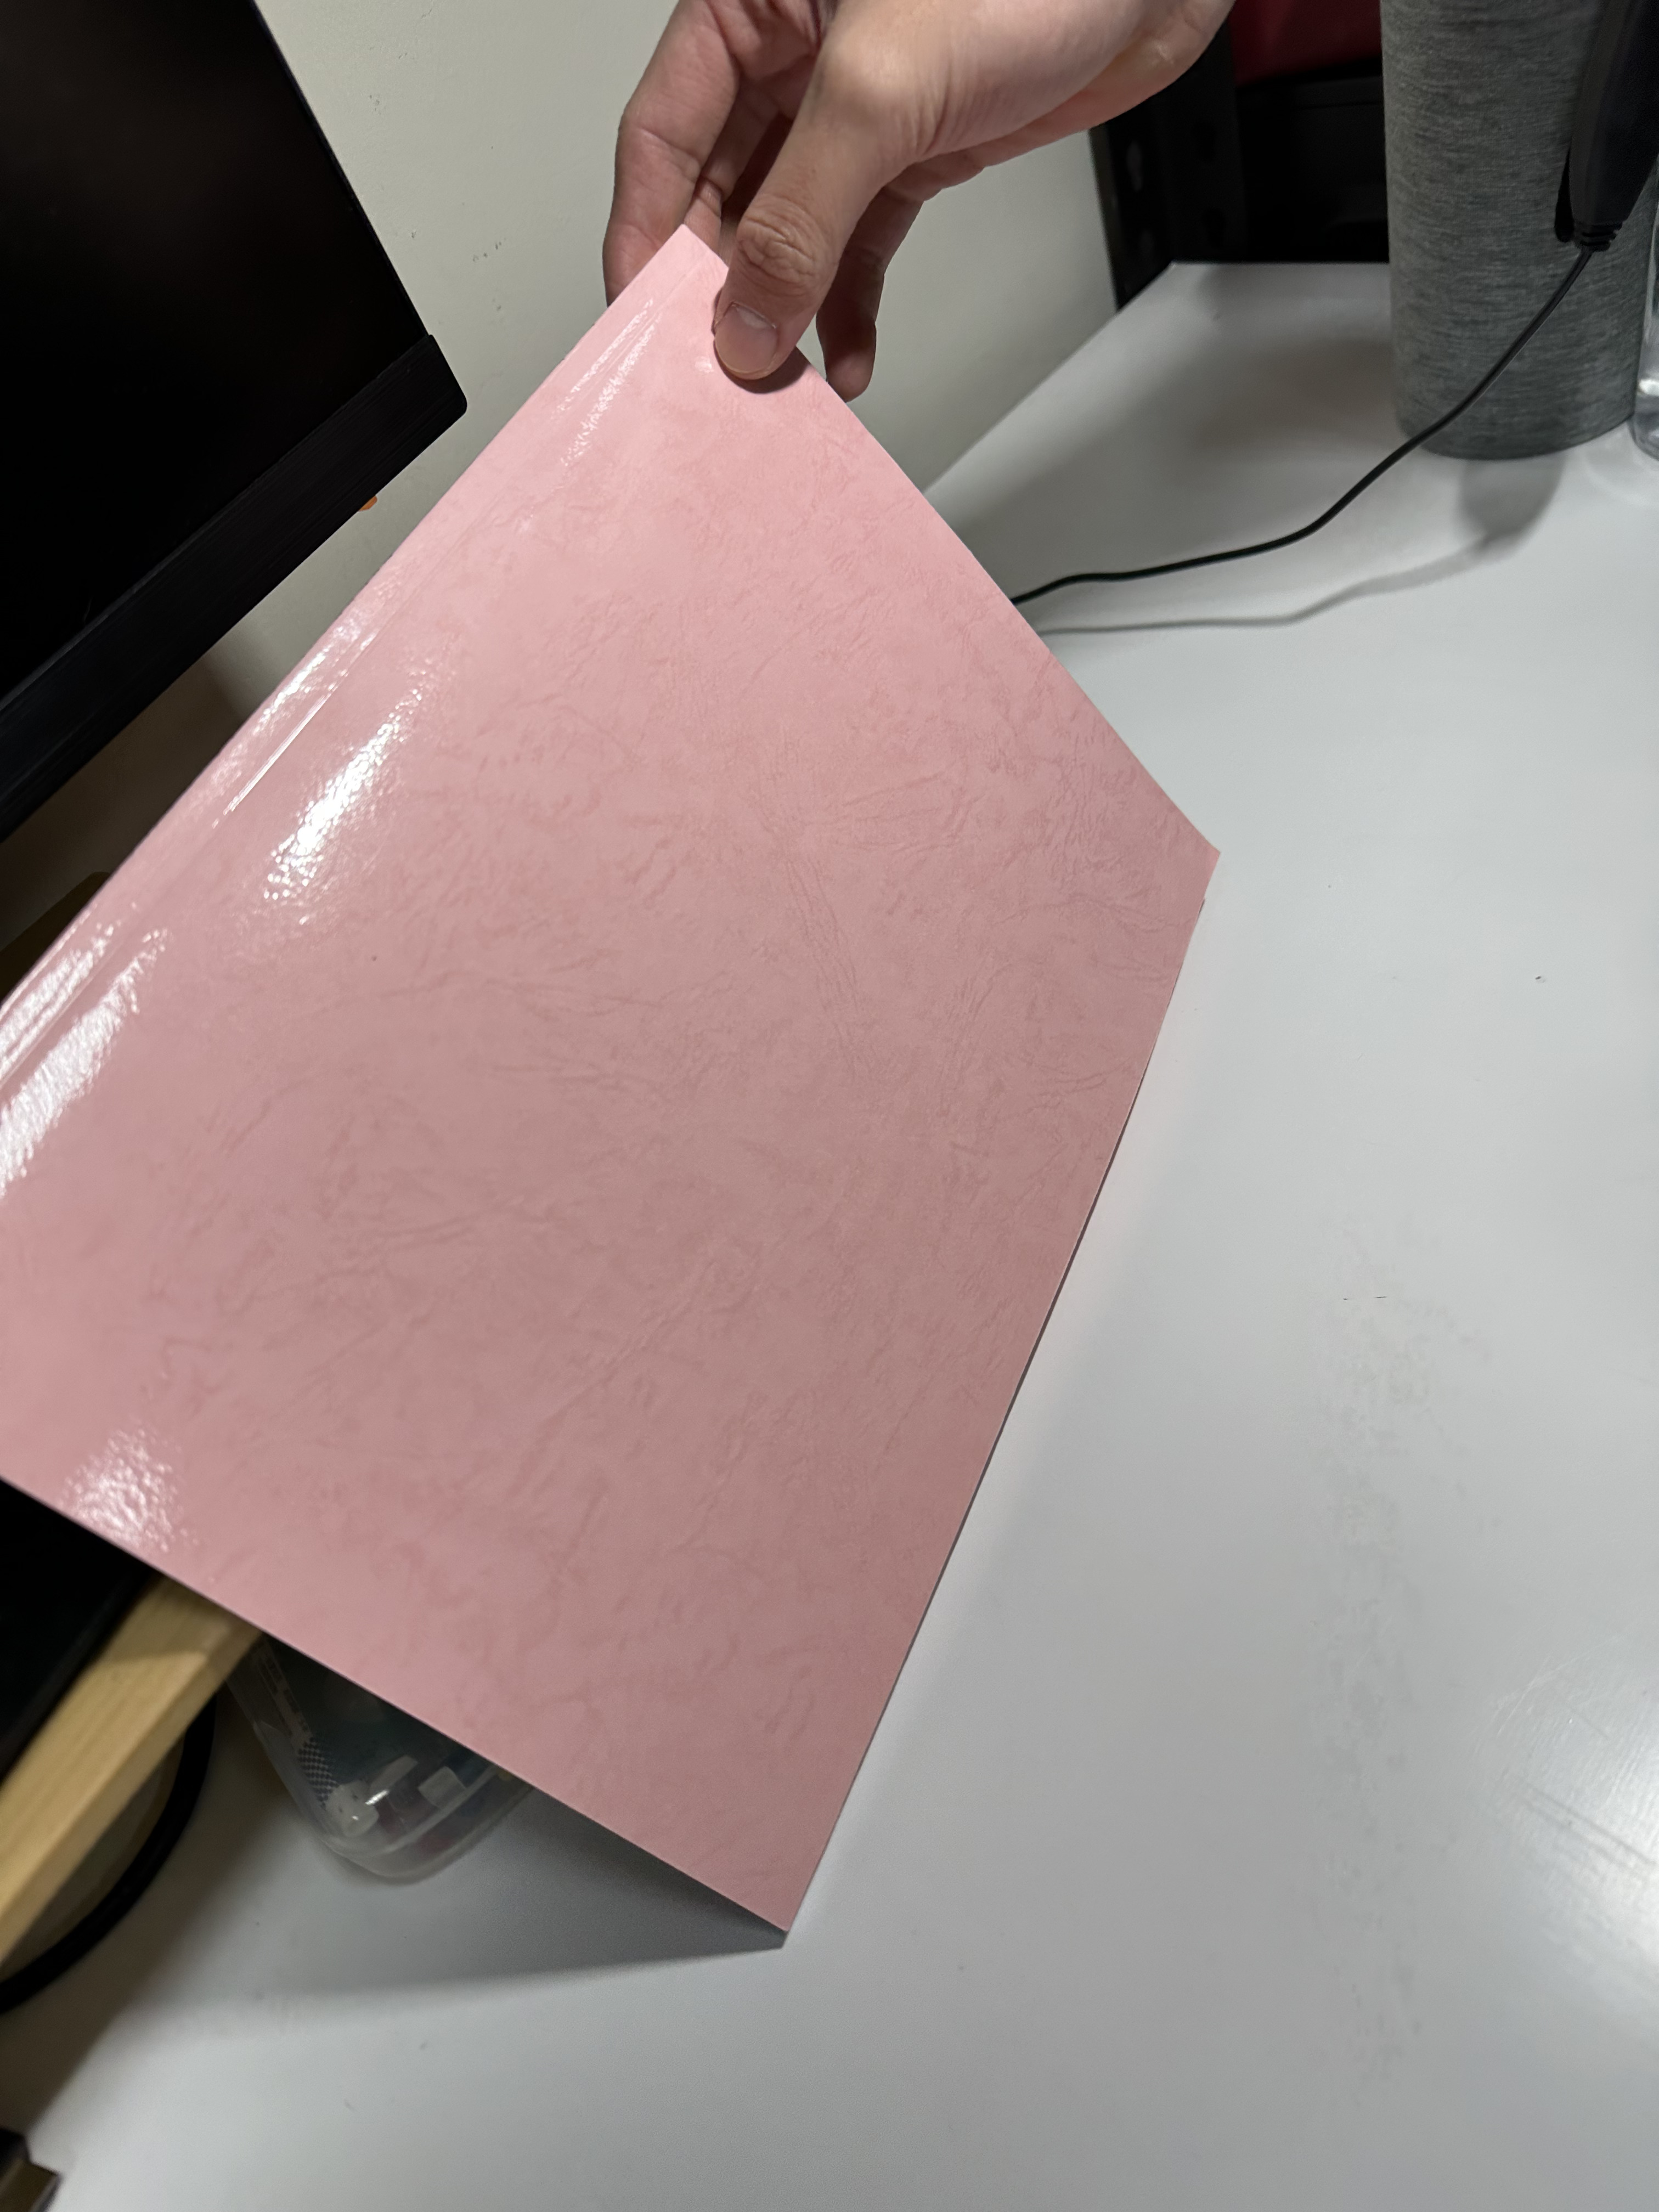book: (3, 225, 1225, 1947)
